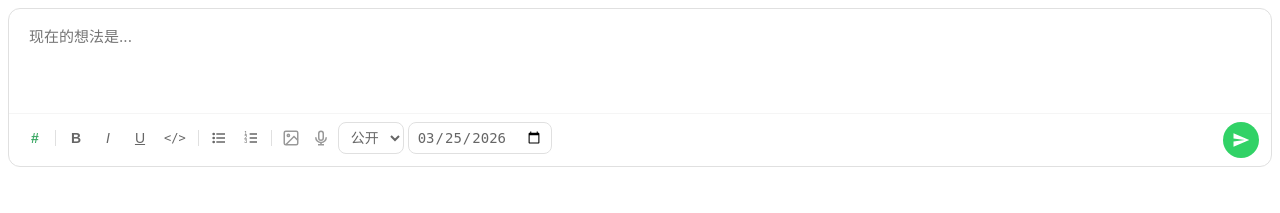
it: MemoComposer › closes tag suggestions when the textarea loses focus
This screenshot has width=1280, height=213.
Type "#" into the text box with placeholder "现在的想法是...".
click(640, 59); type("#")  # box x1=9 y1=9 x2=1271 y2=109
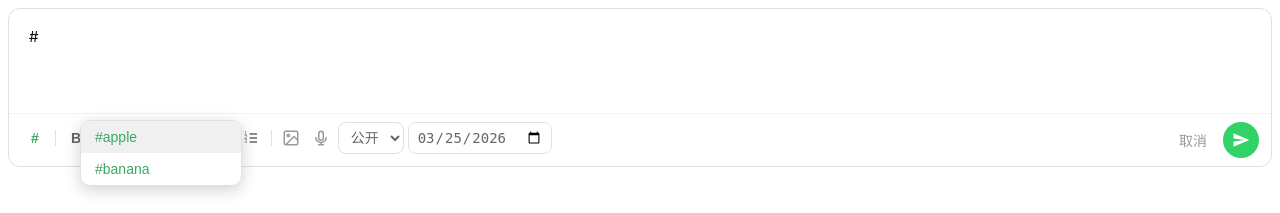
Now the button "#apple" is shown, box x1=81 y1=121 x2=241 y2=153
Leave the text box with placeholder "现在的想法是...", box x1=9 y1=9 x2=1271 y2=109
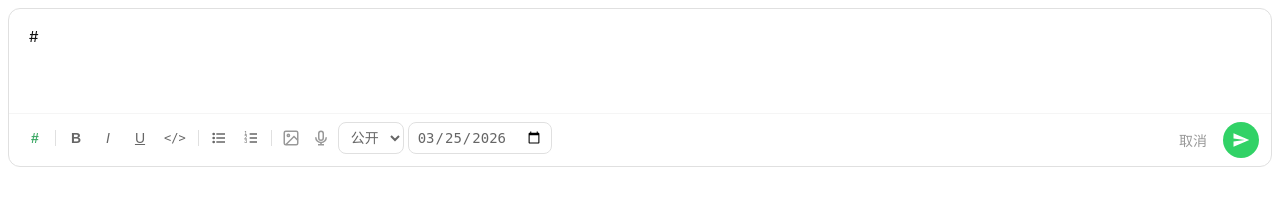
Now the button "#apple" is gone
